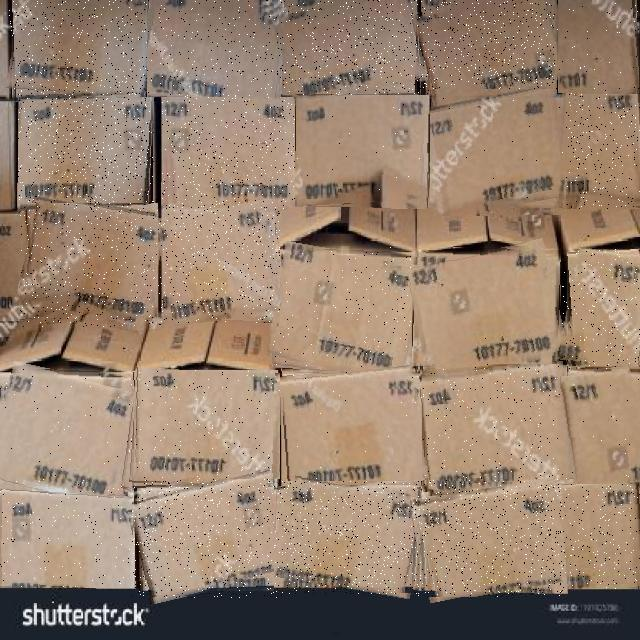BoxFace: (420, 364, 569, 494), (412, 245, 562, 373), (269, 247, 420, 373), (279, 364, 423, 493), (429, 89, 571, 216), (132, 479, 283, 598), (415, 480, 568, 597), (131, 370, 280, 490), (0, 367, 137, 496), (20, 204, 162, 328), (274, 481, 424, 594), (18, 97, 154, 214), (295, 95, 430, 208), (162, 97, 295, 209), (416, 0, 561, 102), (158, 203, 280, 323), (9, 0, 152, 102), (279, 0, 421, 101), (147, 0, 287, 97), (0, 489, 134, 588), (560, 369, 640, 488), (562, 249, 640, 369), (566, 94, 640, 209), (561, 484, 640, 589), (555, 0, 640, 96)
